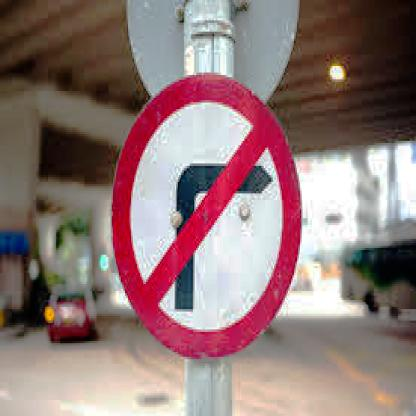No right turn: (112, 72, 306, 358)
